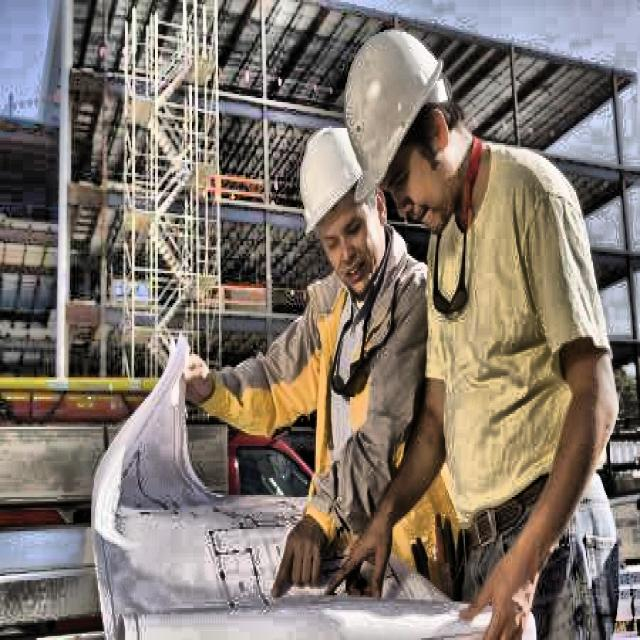helmet: (333, 13, 475, 252), (289, 113, 381, 294)
